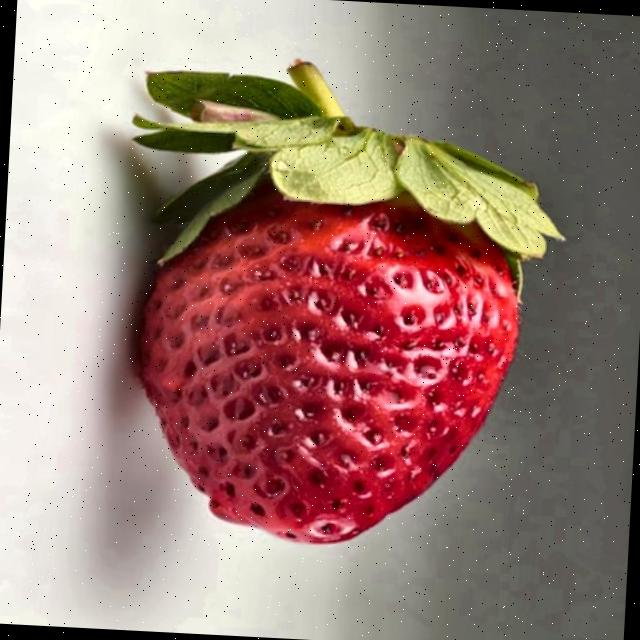strawberry: (134, 62, 562, 544)
